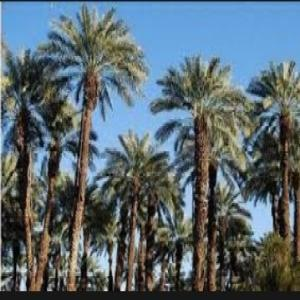palm tree: (36, 3, 149, 290), (149, 52, 250, 290), (96, 128, 175, 290)
